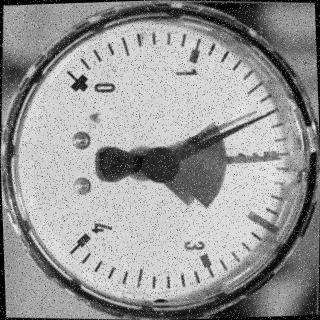gauge: (0, 0, 320, 320), (139, 144, 181, 186), (62, 63, 92, 102), (70, 226, 98, 256), (269, 151, 288, 165), (266, 104, 282, 118)
